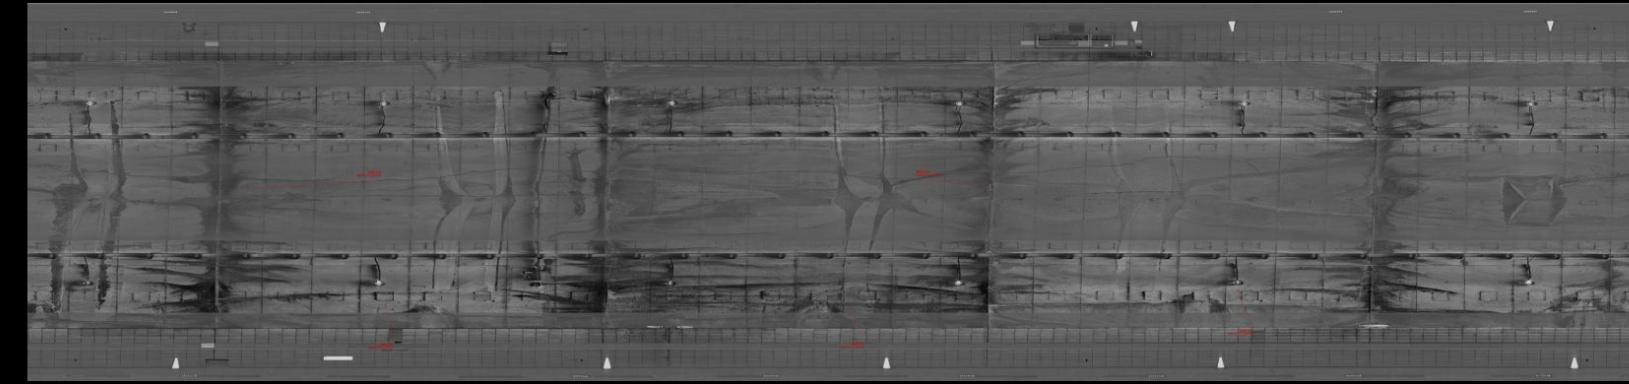light: (371, 97, 396, 111), (1519, 275, 1539, 291), (1225, 275, 1247, 289), (947, 97, 971, 108), (1520, 95, 1542, 108), (368, 275, 388, 289), (80, 95, 100, 109), (77, 275, 96, 289), (1230, 97, 1252, 108), (950, 276, 968, 289), (662, 98, 682, 109), (660, 278, 682, 287)
